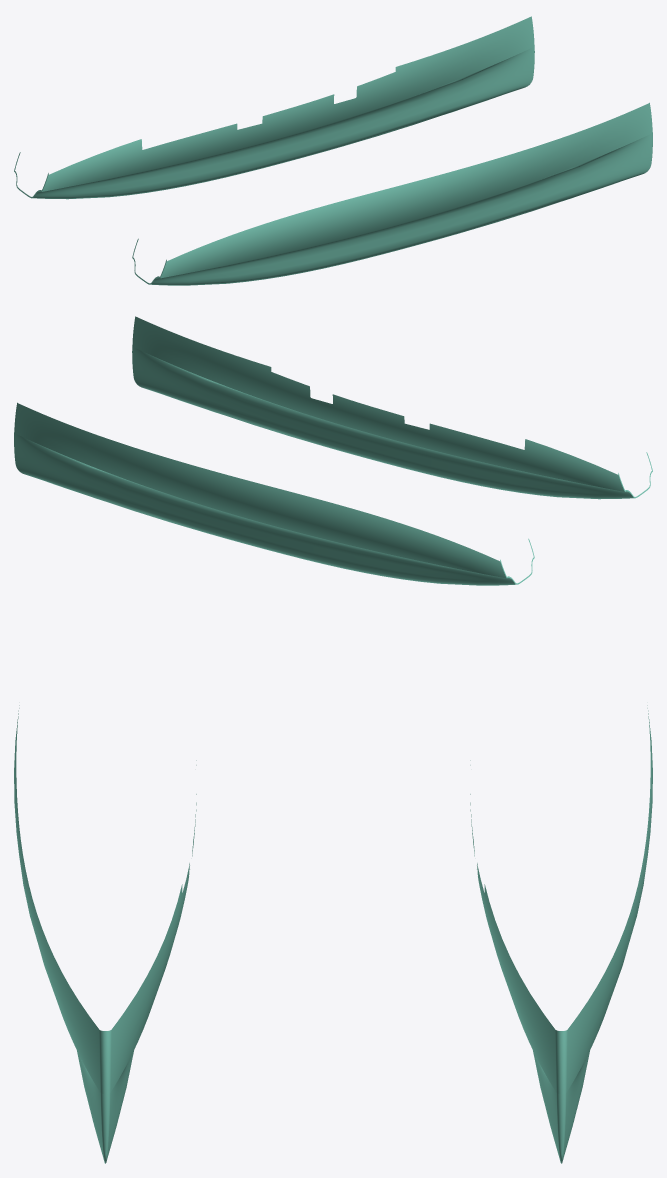
The model's file is HULLS, INTERNALS, ETC.__hull.glb.
3 renders of one model, top to bottom at view 1: azimuth 30°, elevation 25°; view 2: azimuth 150°, elevation 25°; view 3: azimuth 270°, elevation 25°, orthographic. The views are drawn at different scales.
Visible parts, largest first — view 1: lower (×2); view 2: lower (×2); view 3: lower (×2).
Boxes of the visible parts, <box> form: lower (×2): <box>14,16,652,285</box>; lower (×2): <box>14,316,652,585</box>; lower (×2): <box>14,705,652,1163</box>.
Size of the model in its own units: 11.4 by 1.77 by 6.41.
